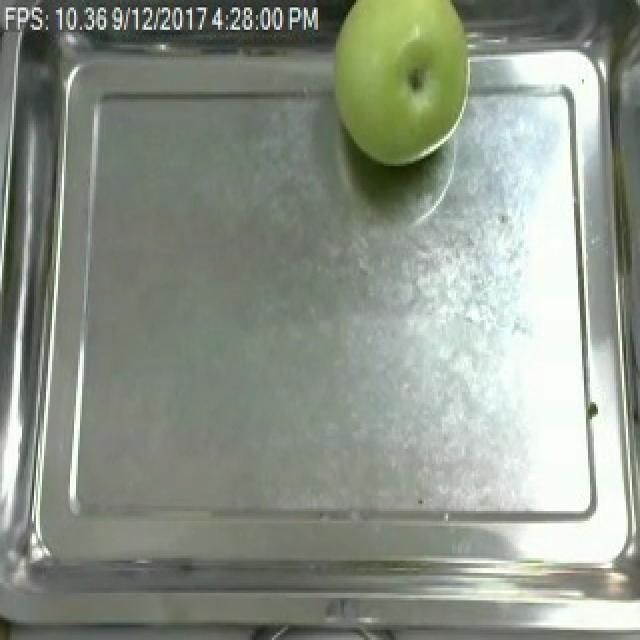50-_ripeness: (325, 0, 478, 168)
